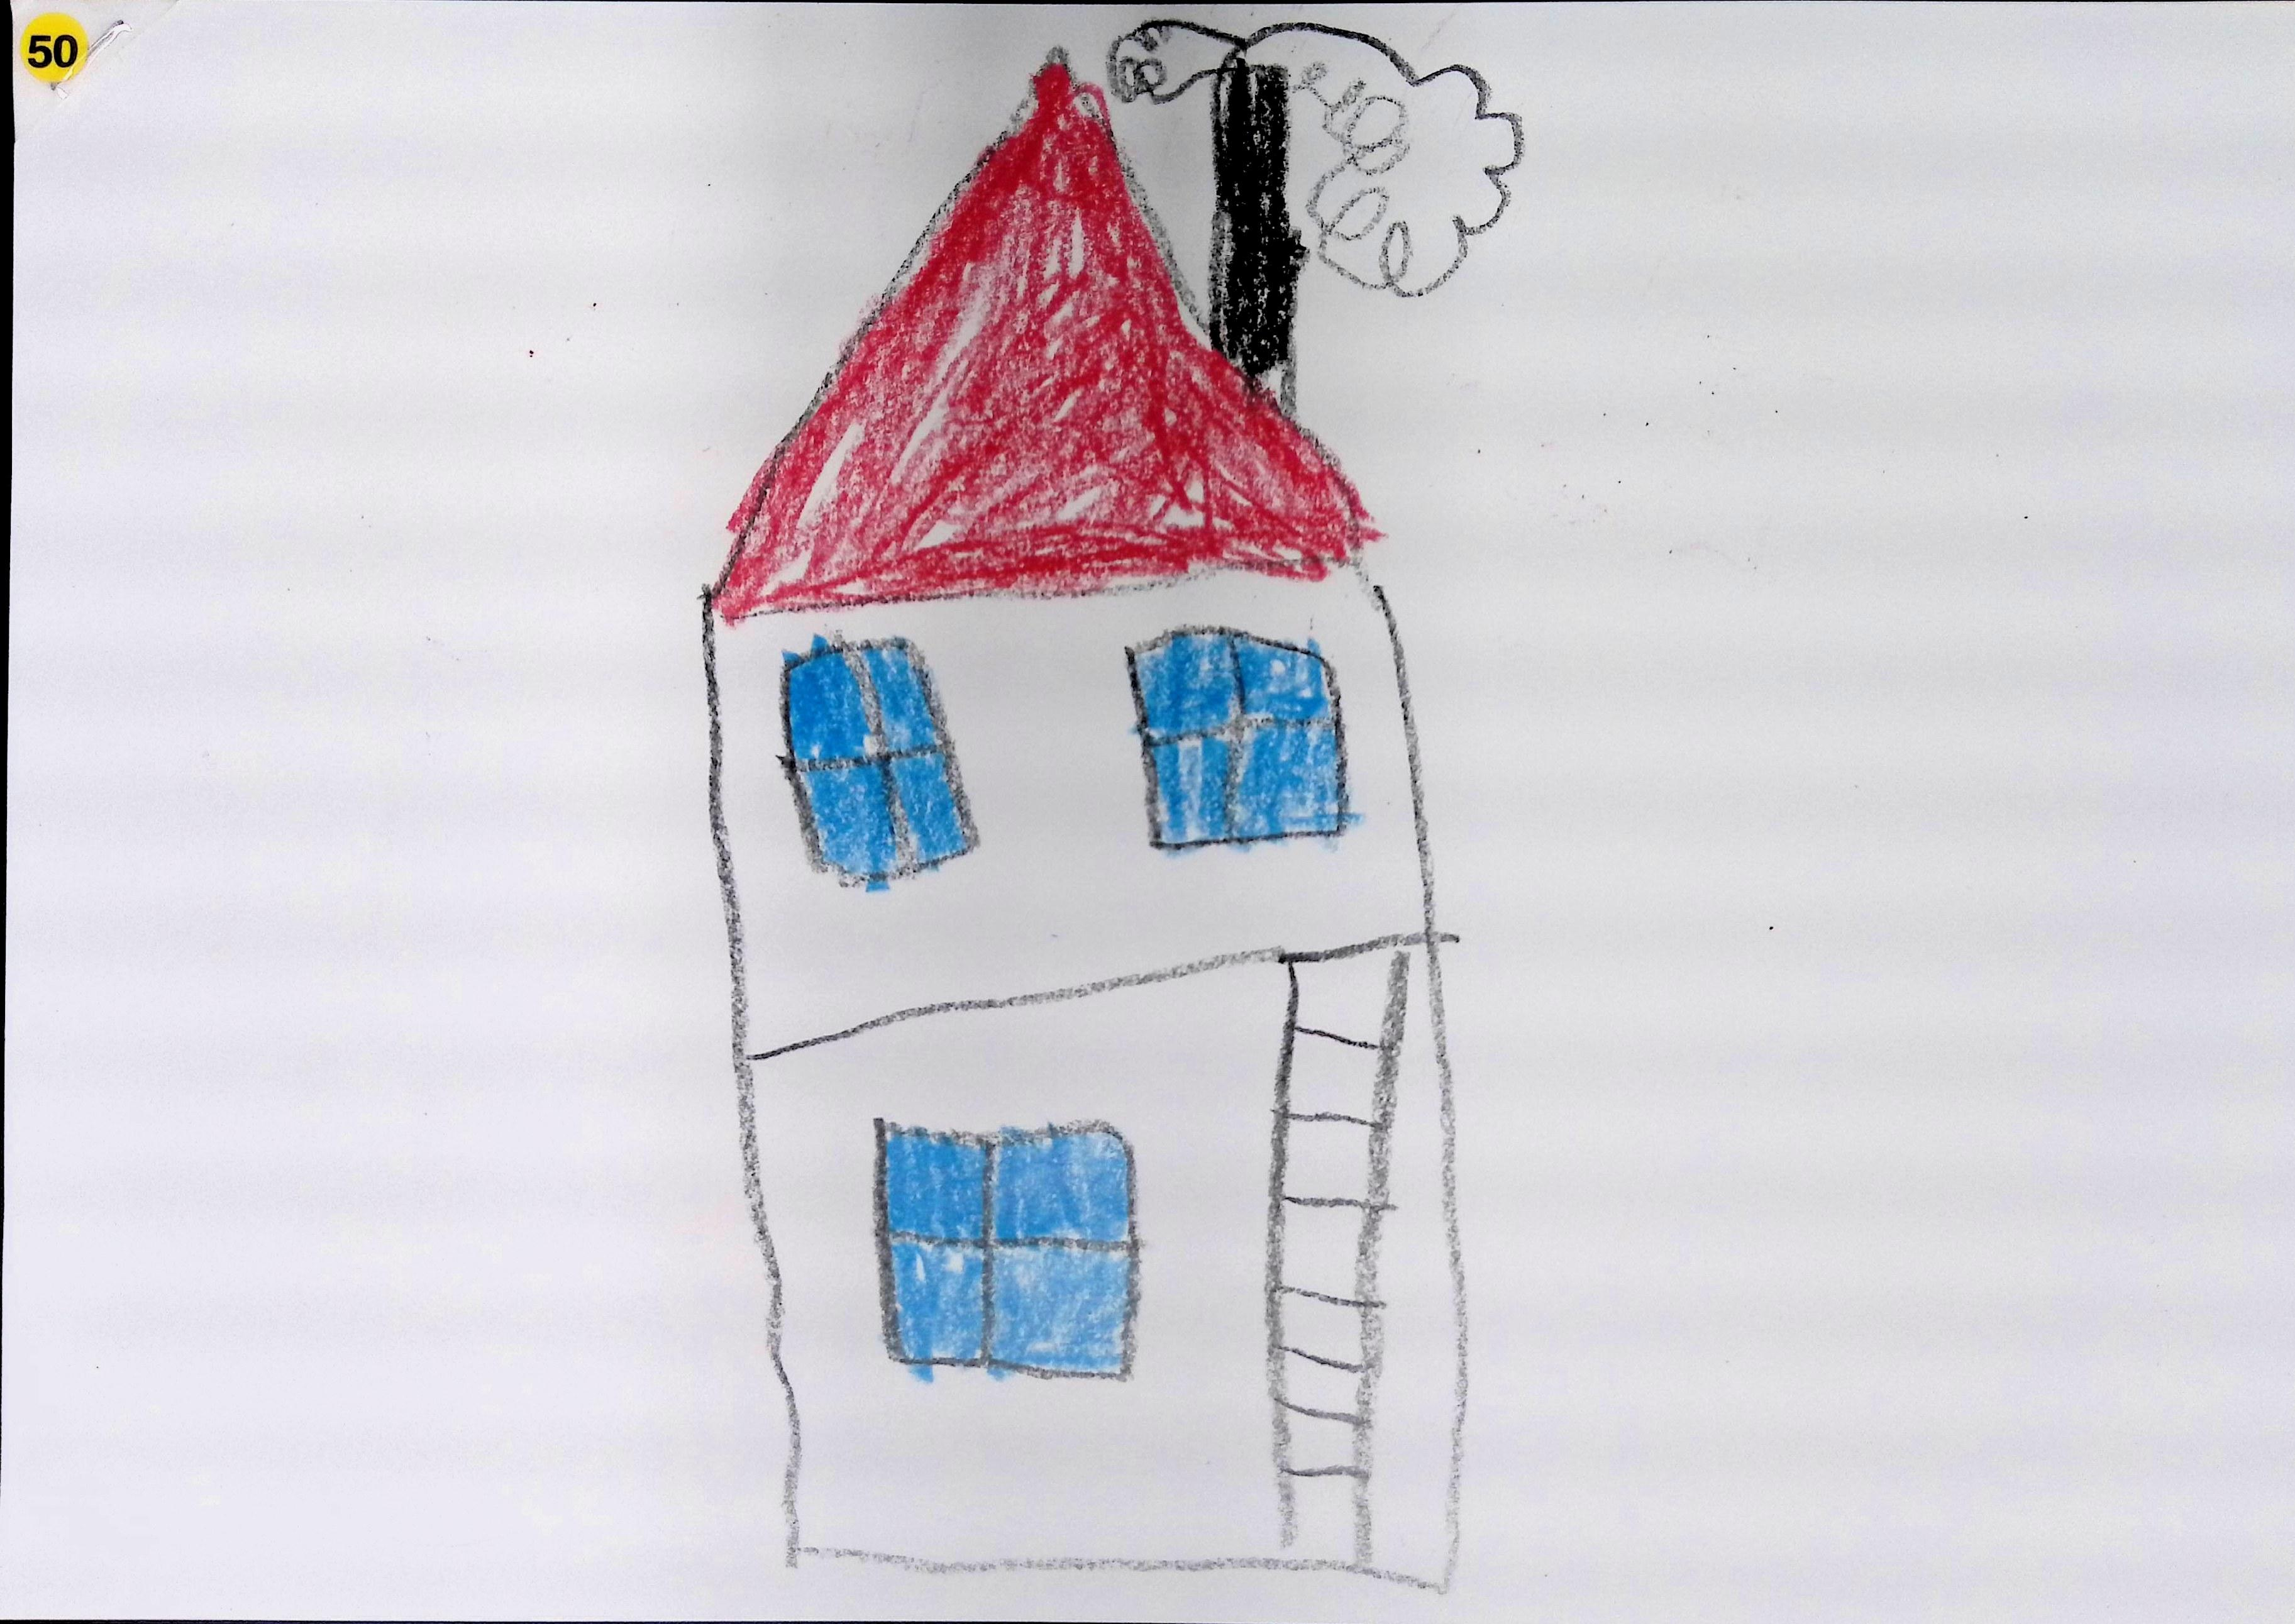chimney: (1211, 53, 1293, 406)
house: (705, 33, 1474, 1601)
roof: (712, 54, 1379, 620)
wall: (712, 561, 1455, 1568)
window: (875, 1121, 1137, 1378), (780, 634, 977, 888), (1128, 627, 1350, 849)
